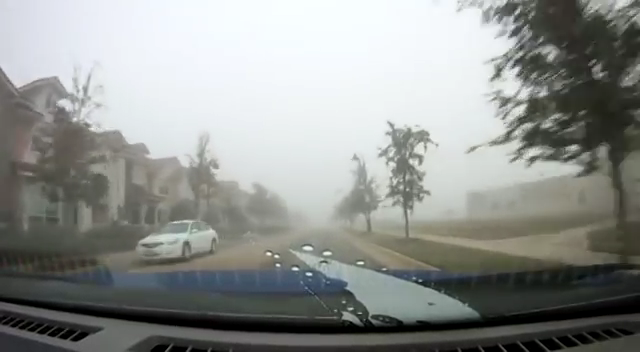car: (135, 220, 219, 263)
